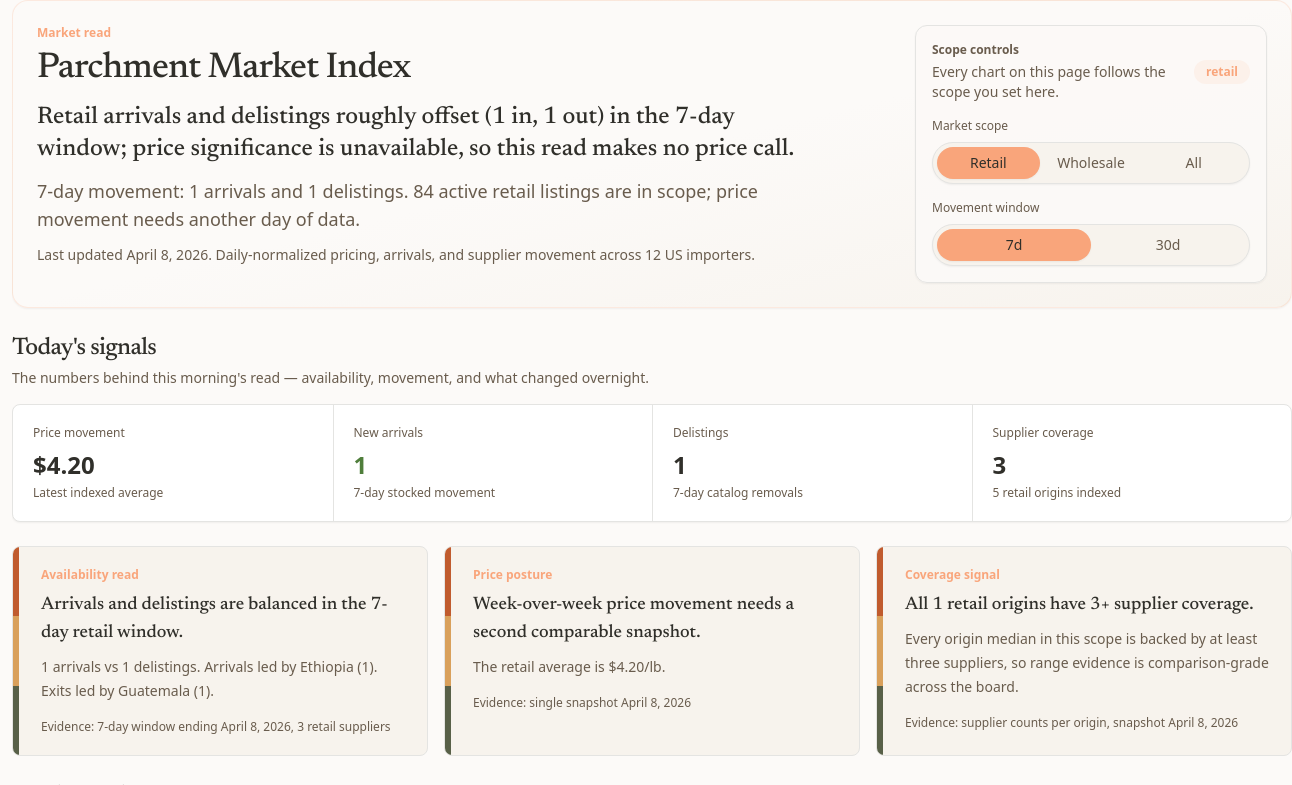
Test case: analytics command center hierarchy › labels all-scope price posture as combined retail and wholesale
Click the button "All" at (1194, 163), box [1142,147,1245,179]
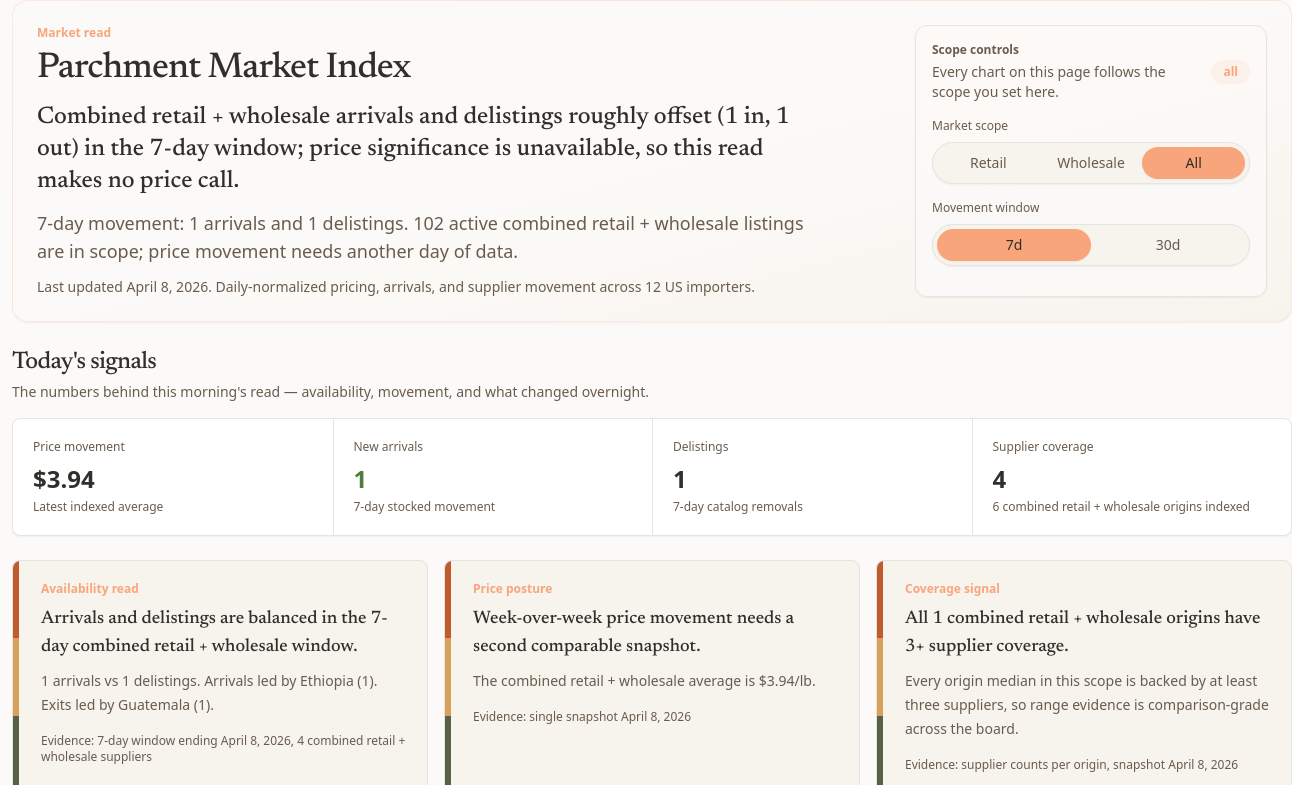
Result: the text "The combined retail + wholesale average is $3.94/lb." is shown at [473,669,839,693]
